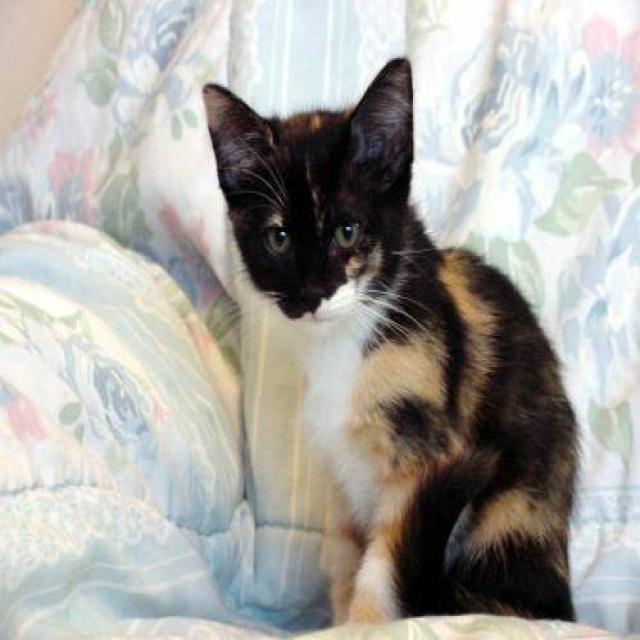cat: (200, 55, 582, 626)
